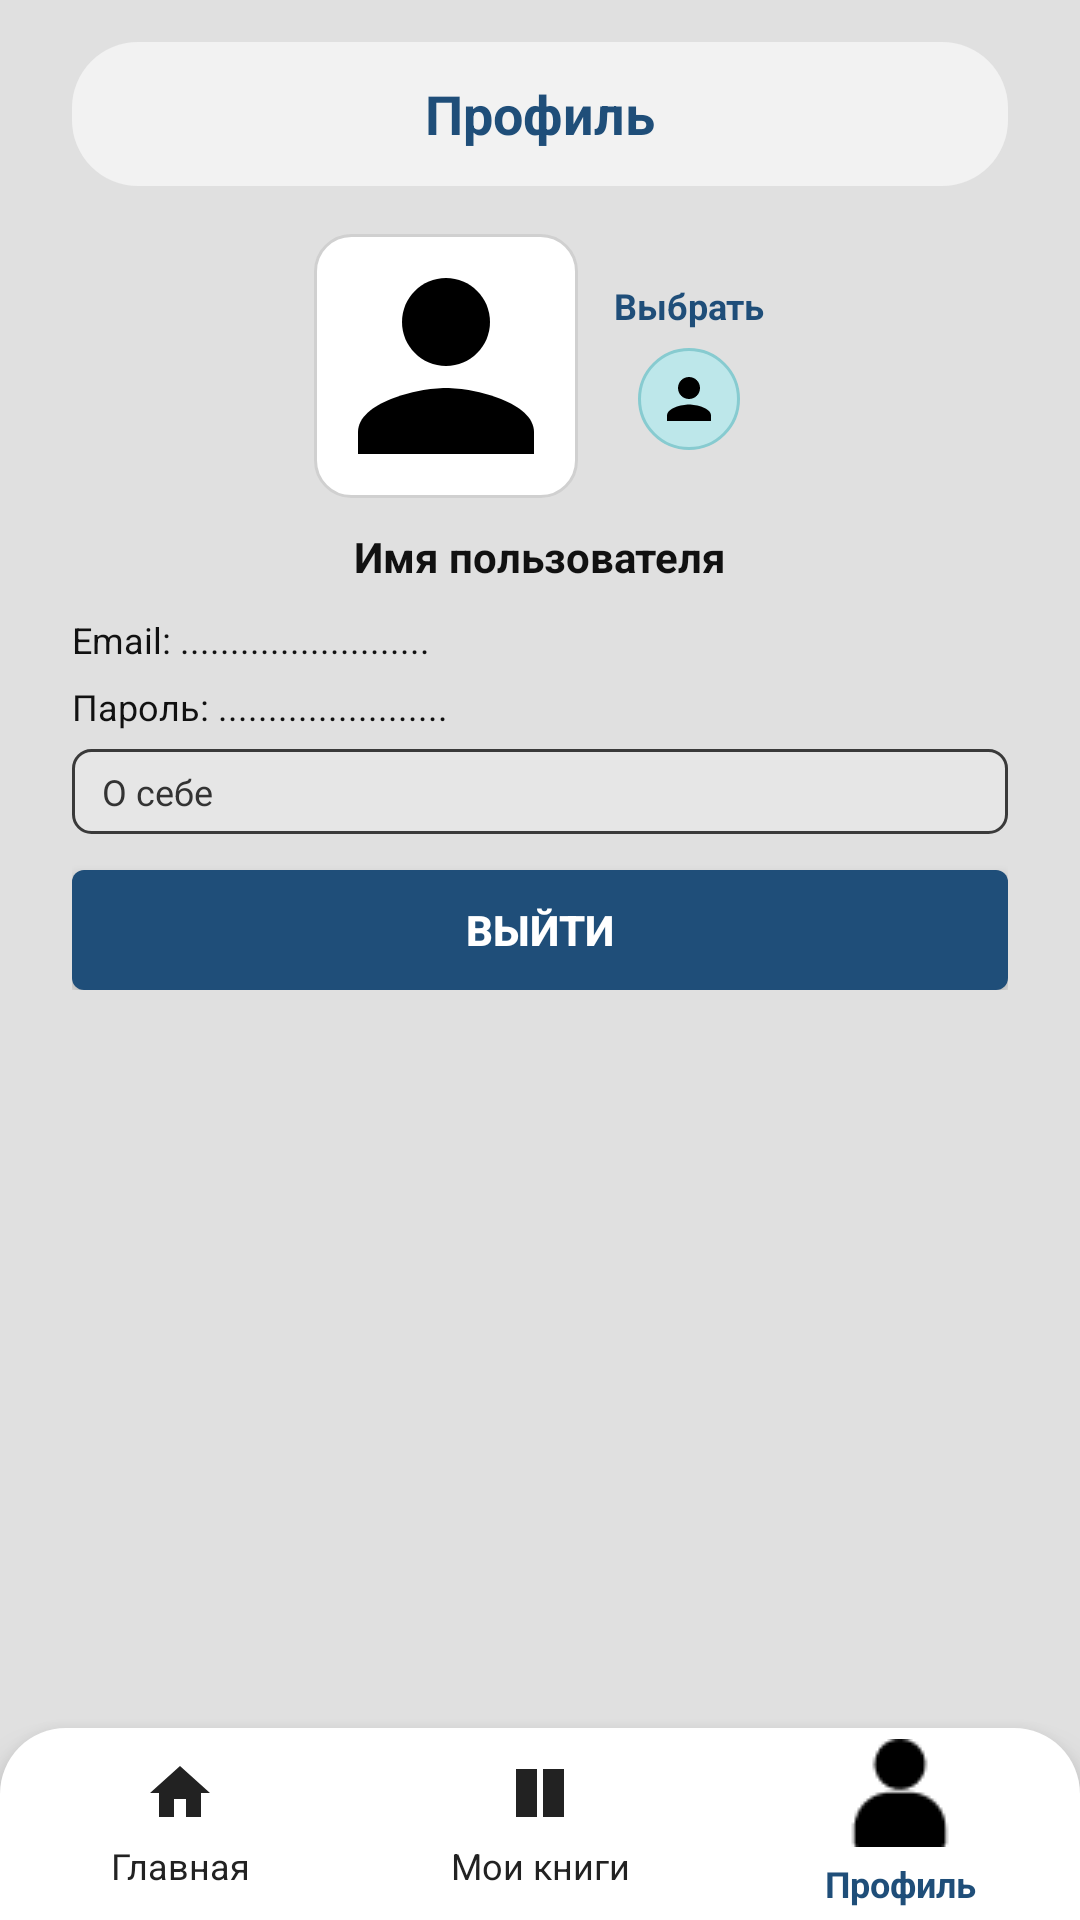

Named icons in this screenshot (1080px×1920px) and their centers, point (x, y):
profile: point (446, 366), point (689, 399)
